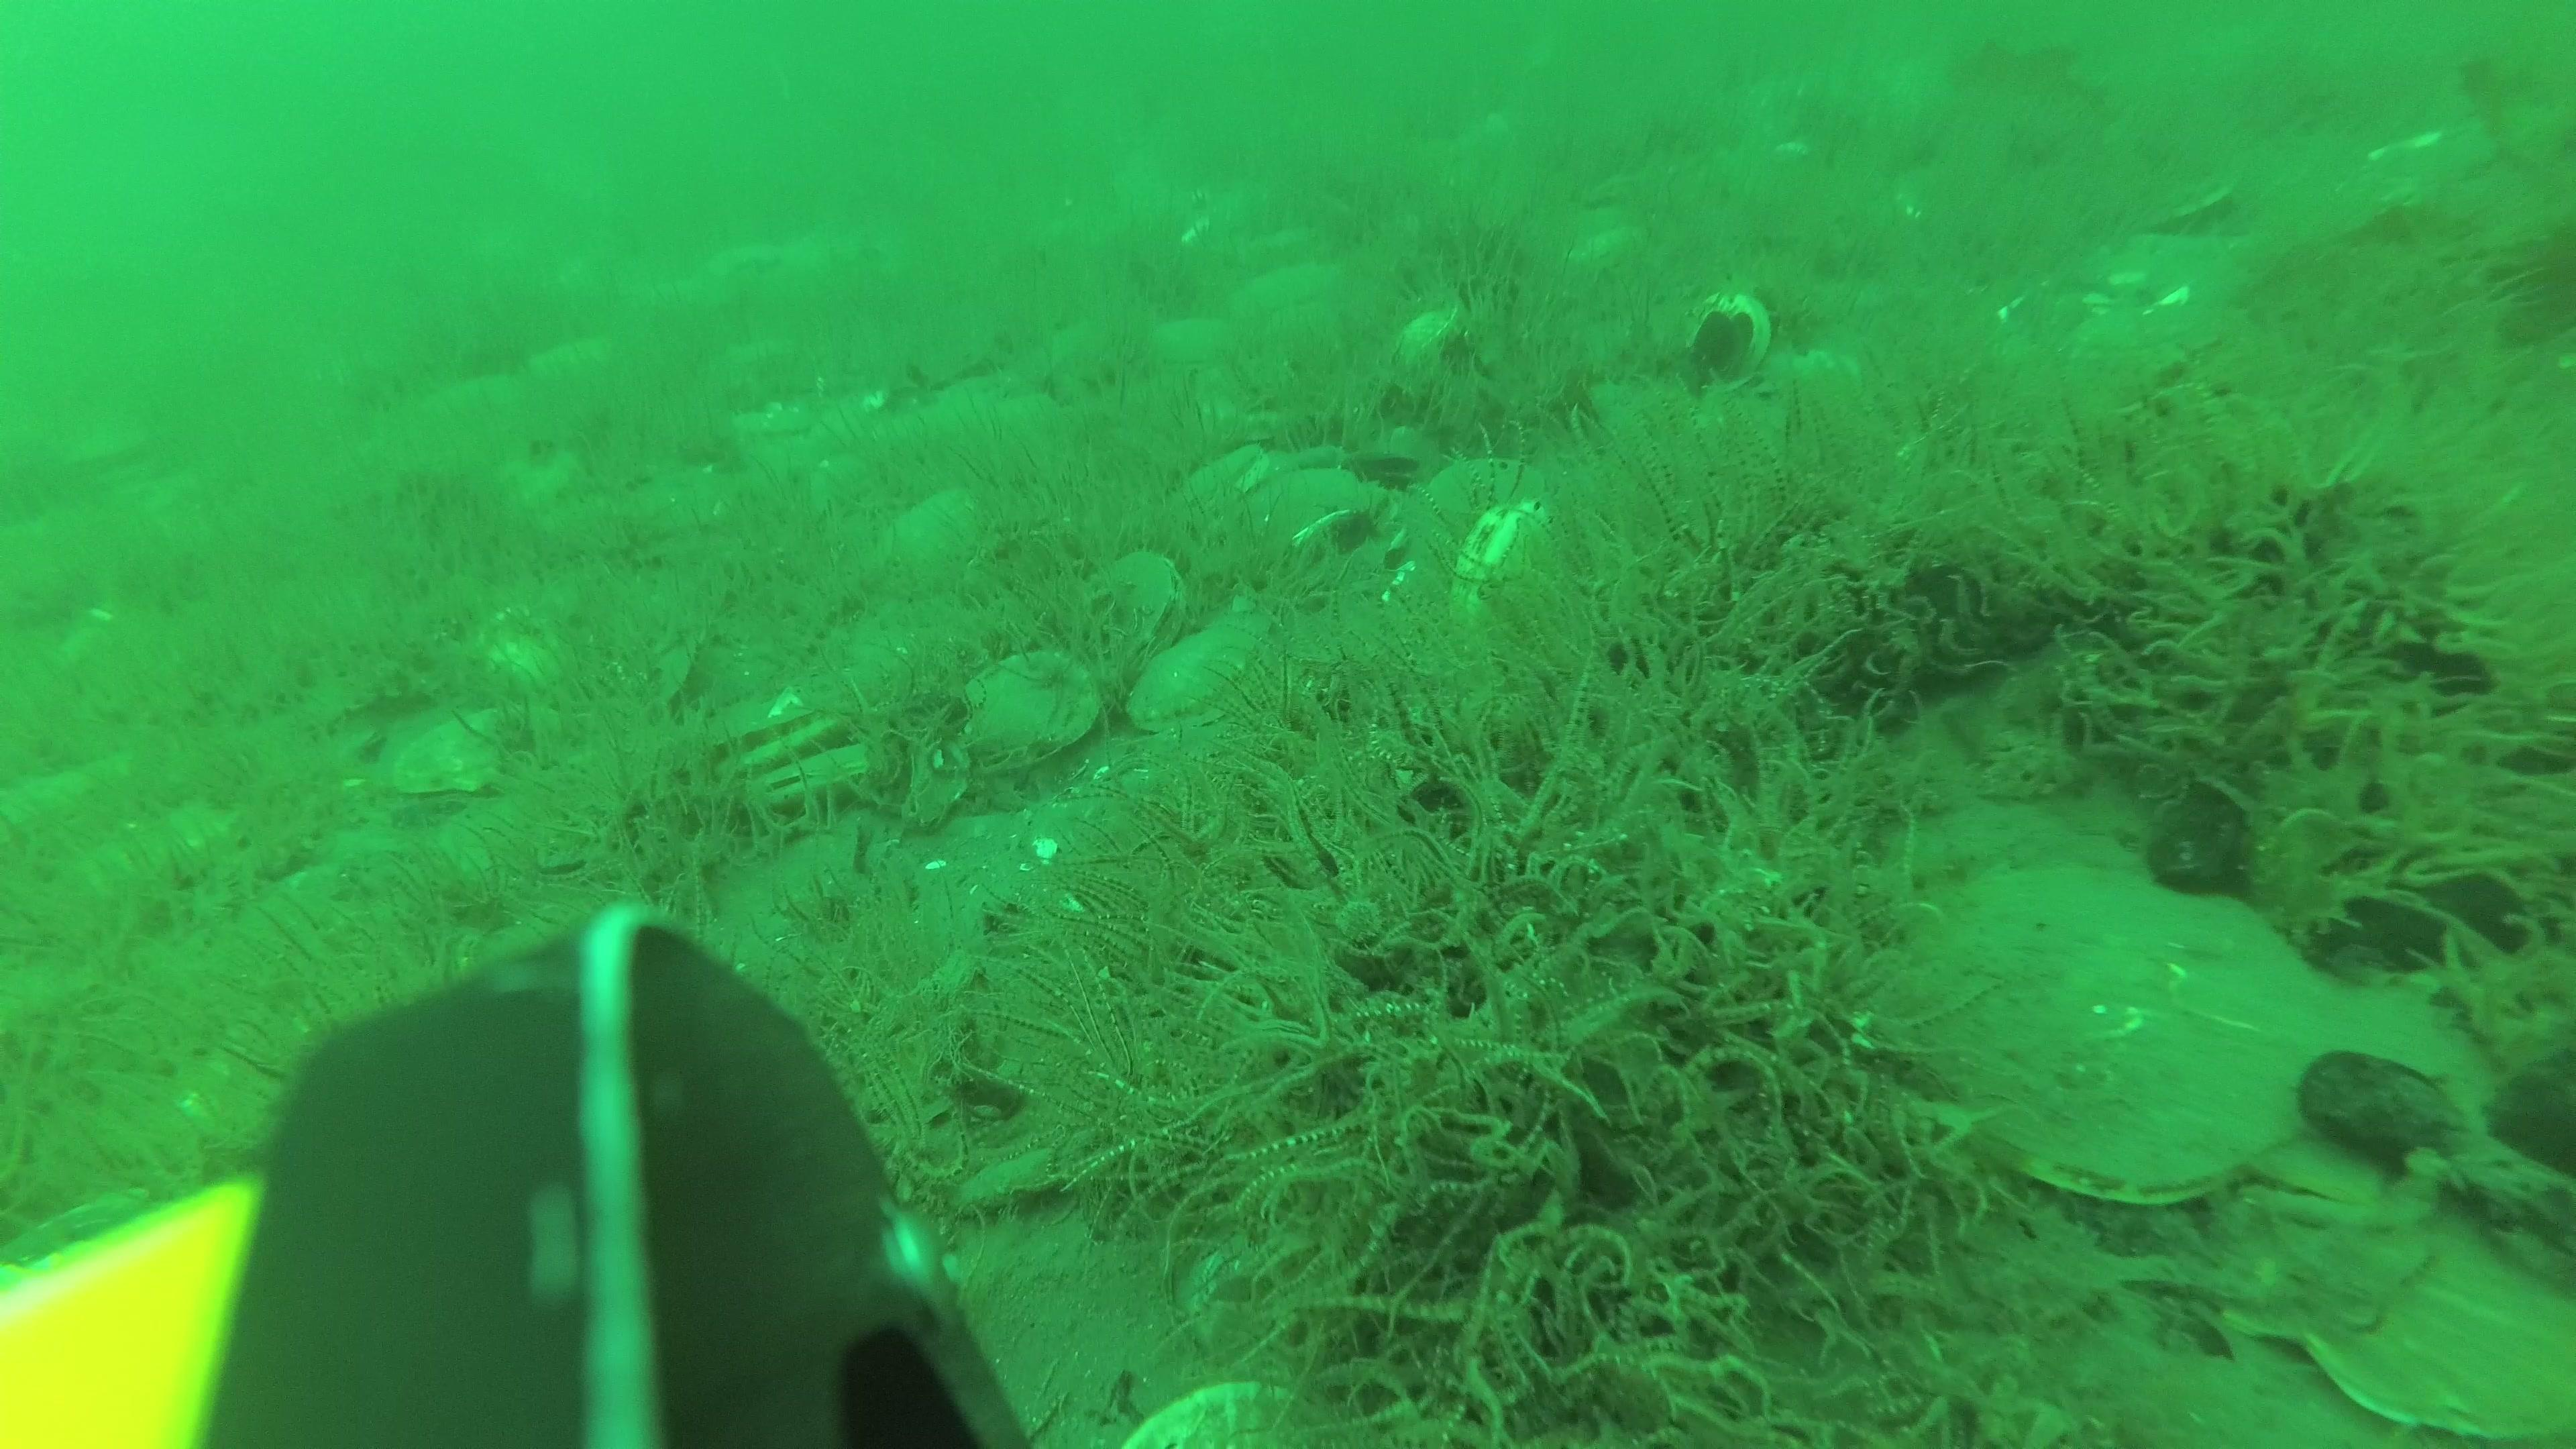scallop: (1897, 865, 2344, 1207), (2304, 1150, 2576, 1445), (2219, 980, 2518, 1215), (2199, 1136, 2461, 1332), (952, 656, 1097, 770), (1138, 609, 1274, 729), (400, 699, 563, 794), (1081, 547, 1196, 665), (874, 499, 1000, 603), (713, 692, 847, 780), (1415, 460, 1555, 538), (1244, 474, 1373, 556), (748, 752, 897, 821), (1178, 444, 1283, 520), (1387, 297, 1461, 389), (1146, 313, 1242, 372)
